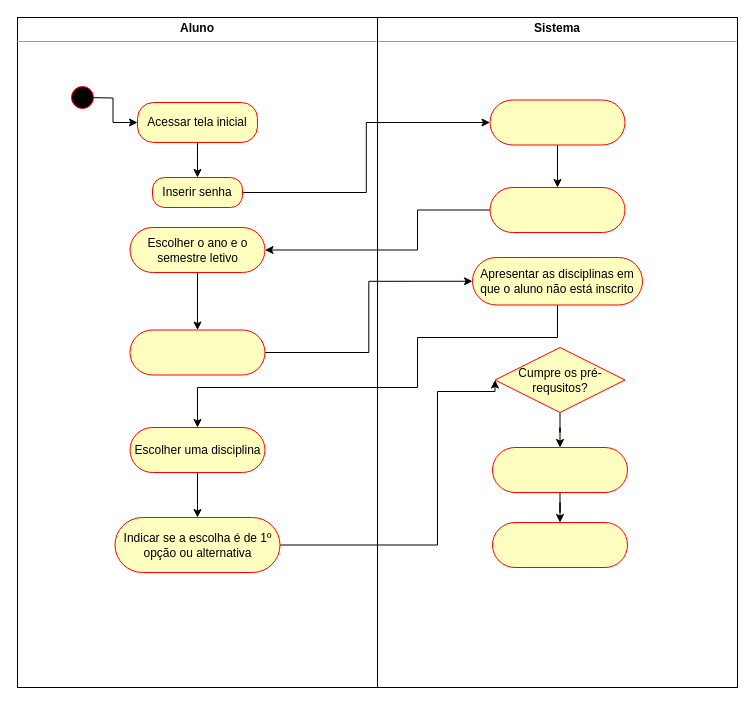
Image size: 755x705. Some labels were removed from this diagram. Each missing label, with the centre of its shape:
Adicionar aluna a lista da disciplina: point 560,469
Mostrar mensagem confirmando matrícula: point 560,545
Pedir para criar nova matrícula: point 197,352
Solicitar o ano e o semestre letivo: point 557,209
Validar a senha: point 557,122
